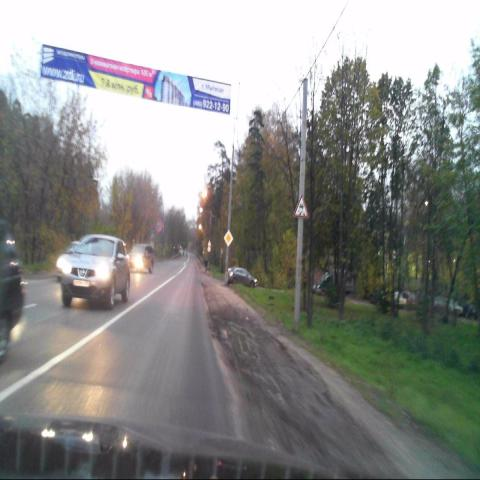1_15: (293, 193, 308, 218)
